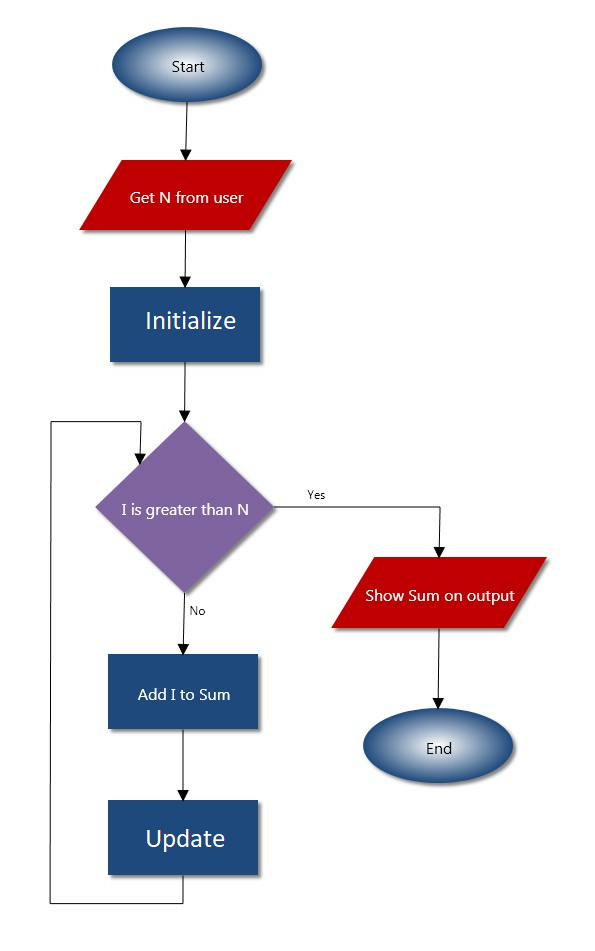arrow: (44, 415, 190, 909), (270, 502, 448, 557), (431, 631, 447, 712), (174, 730, 192, 802), (174, 589, 192, 656), (177, 101, 195, 160), (177, 360, 192, 424), (177, 228, 193, 286)
data: (331, 552, 553, 636), (77, 156, 296, 240)
decision: (92, 418, 279, 596)
process: (103, 281, 266, 369), (103, 795, 264, 882), (103, 650, 264, 737)
terminator: (108, 24, 268, 109), (360, 704, 519, 788)
text: (363, 582, 521, 611), (116, 499, 255, 524), (131, 679, 232, 708), (122, 186, 248, 209), (139, 305, 235, 334), (141, 824, 229, 853), (167, 54, 206, 79), (422, 737, 457, 759), (184, 602, 209, 621), (302, 486, 328, 504)
